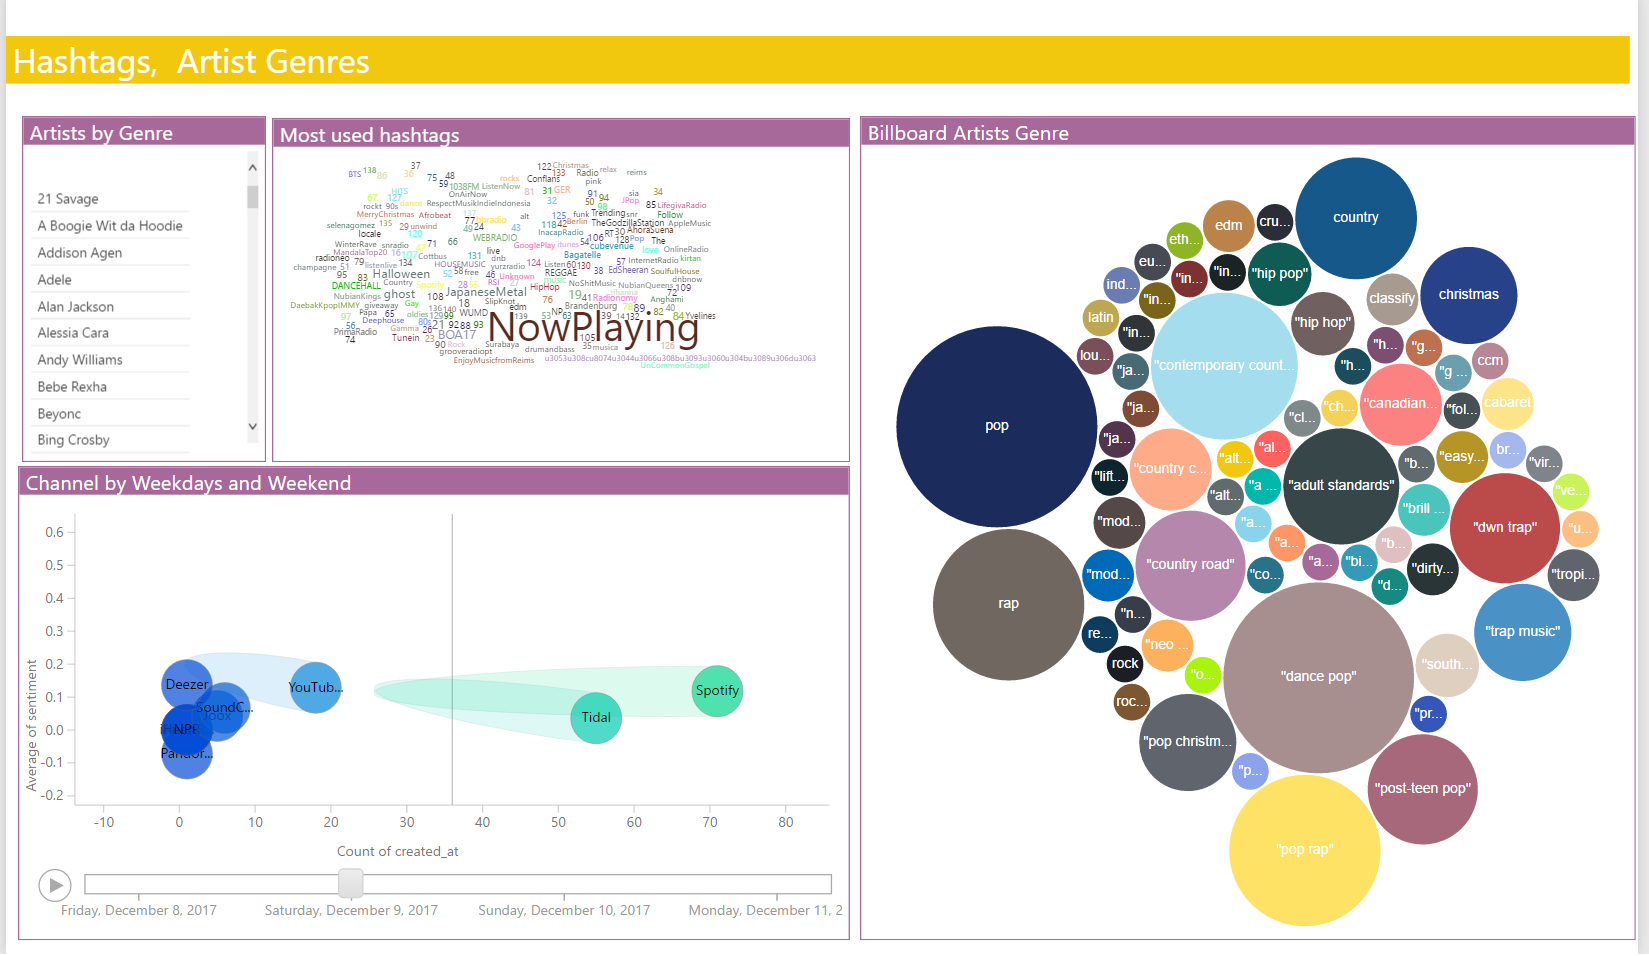

Layout of this report page (visuals, bound fields, positions):
{"tool":"powerbi","page":{"name":"Hastags and Genres","canvas":[1280,720],"ordinal":6},"visuals":[{"type":"bubbleChartEEDCDFA388784AEEAB47972BC1626196","fields":{"category":["billboard_top_100_artist_genre.value"],"measure":["billboard_top_100_artist_genre.value"]},"box":[669.8,62.7,608.6,646.3],"z":0},{"type":"impactBubbleChart9F474F4C9D2243D7A6BB693D25F75740","fields":{"groupBy":["all_data3.Date"],"name":["all_data3.channel"],"xAxis":["all_data3.created_at"],"size":["all_data3.created_at"],"yAxis":["all_data3.sentiment"]},"box":[9.4,337.3,652.5,371.8],"z":1},{"type":"tableEx","fields":{"Values":["billboard_top_100_artist_genre.artist"]},"box":[12.5,62.7,191.4,271.4],"z":2},{"type":"WordCloud1447959067750","fields":{"Category":["all_data_original.entities_hashtags"]},"box":[208.6,64.3,453.3,269.8],"z":4},{"type":"textbox","box":[0,0,1273.7,37.6],"z":6}]}

Visuals, with their boxes in screenshot pixels (x1, y1, x2, y2), scaled from the page's 1280x720 canvas onto the 1649x956 screenshot:
bubbleChartEEDCDFA388784AEEAB47972BC1626196 - billboard_top_100_artist_genre.value x billboard_top_100_artist_genre.value: (x1=863, y1=83, x2=1647, y2=941)
impactBubbleChart9F474F4C9D2243D7A6BB693D25F75740 - all_data3.Date x all_data3.channel: (x1=12, y1=448, x2=853, y2=942)
tableEx - billboard_top_100_artist_genre.artist: (x1=16, y1=83, x2=263, y2=444)
WordCloud1447959067750 - all_data_original.entities_hashtags: (x1=269, y1=85, x2=853, y2=444)
textbox: (x1=0, y1=0, x2=1641, y2=50)
